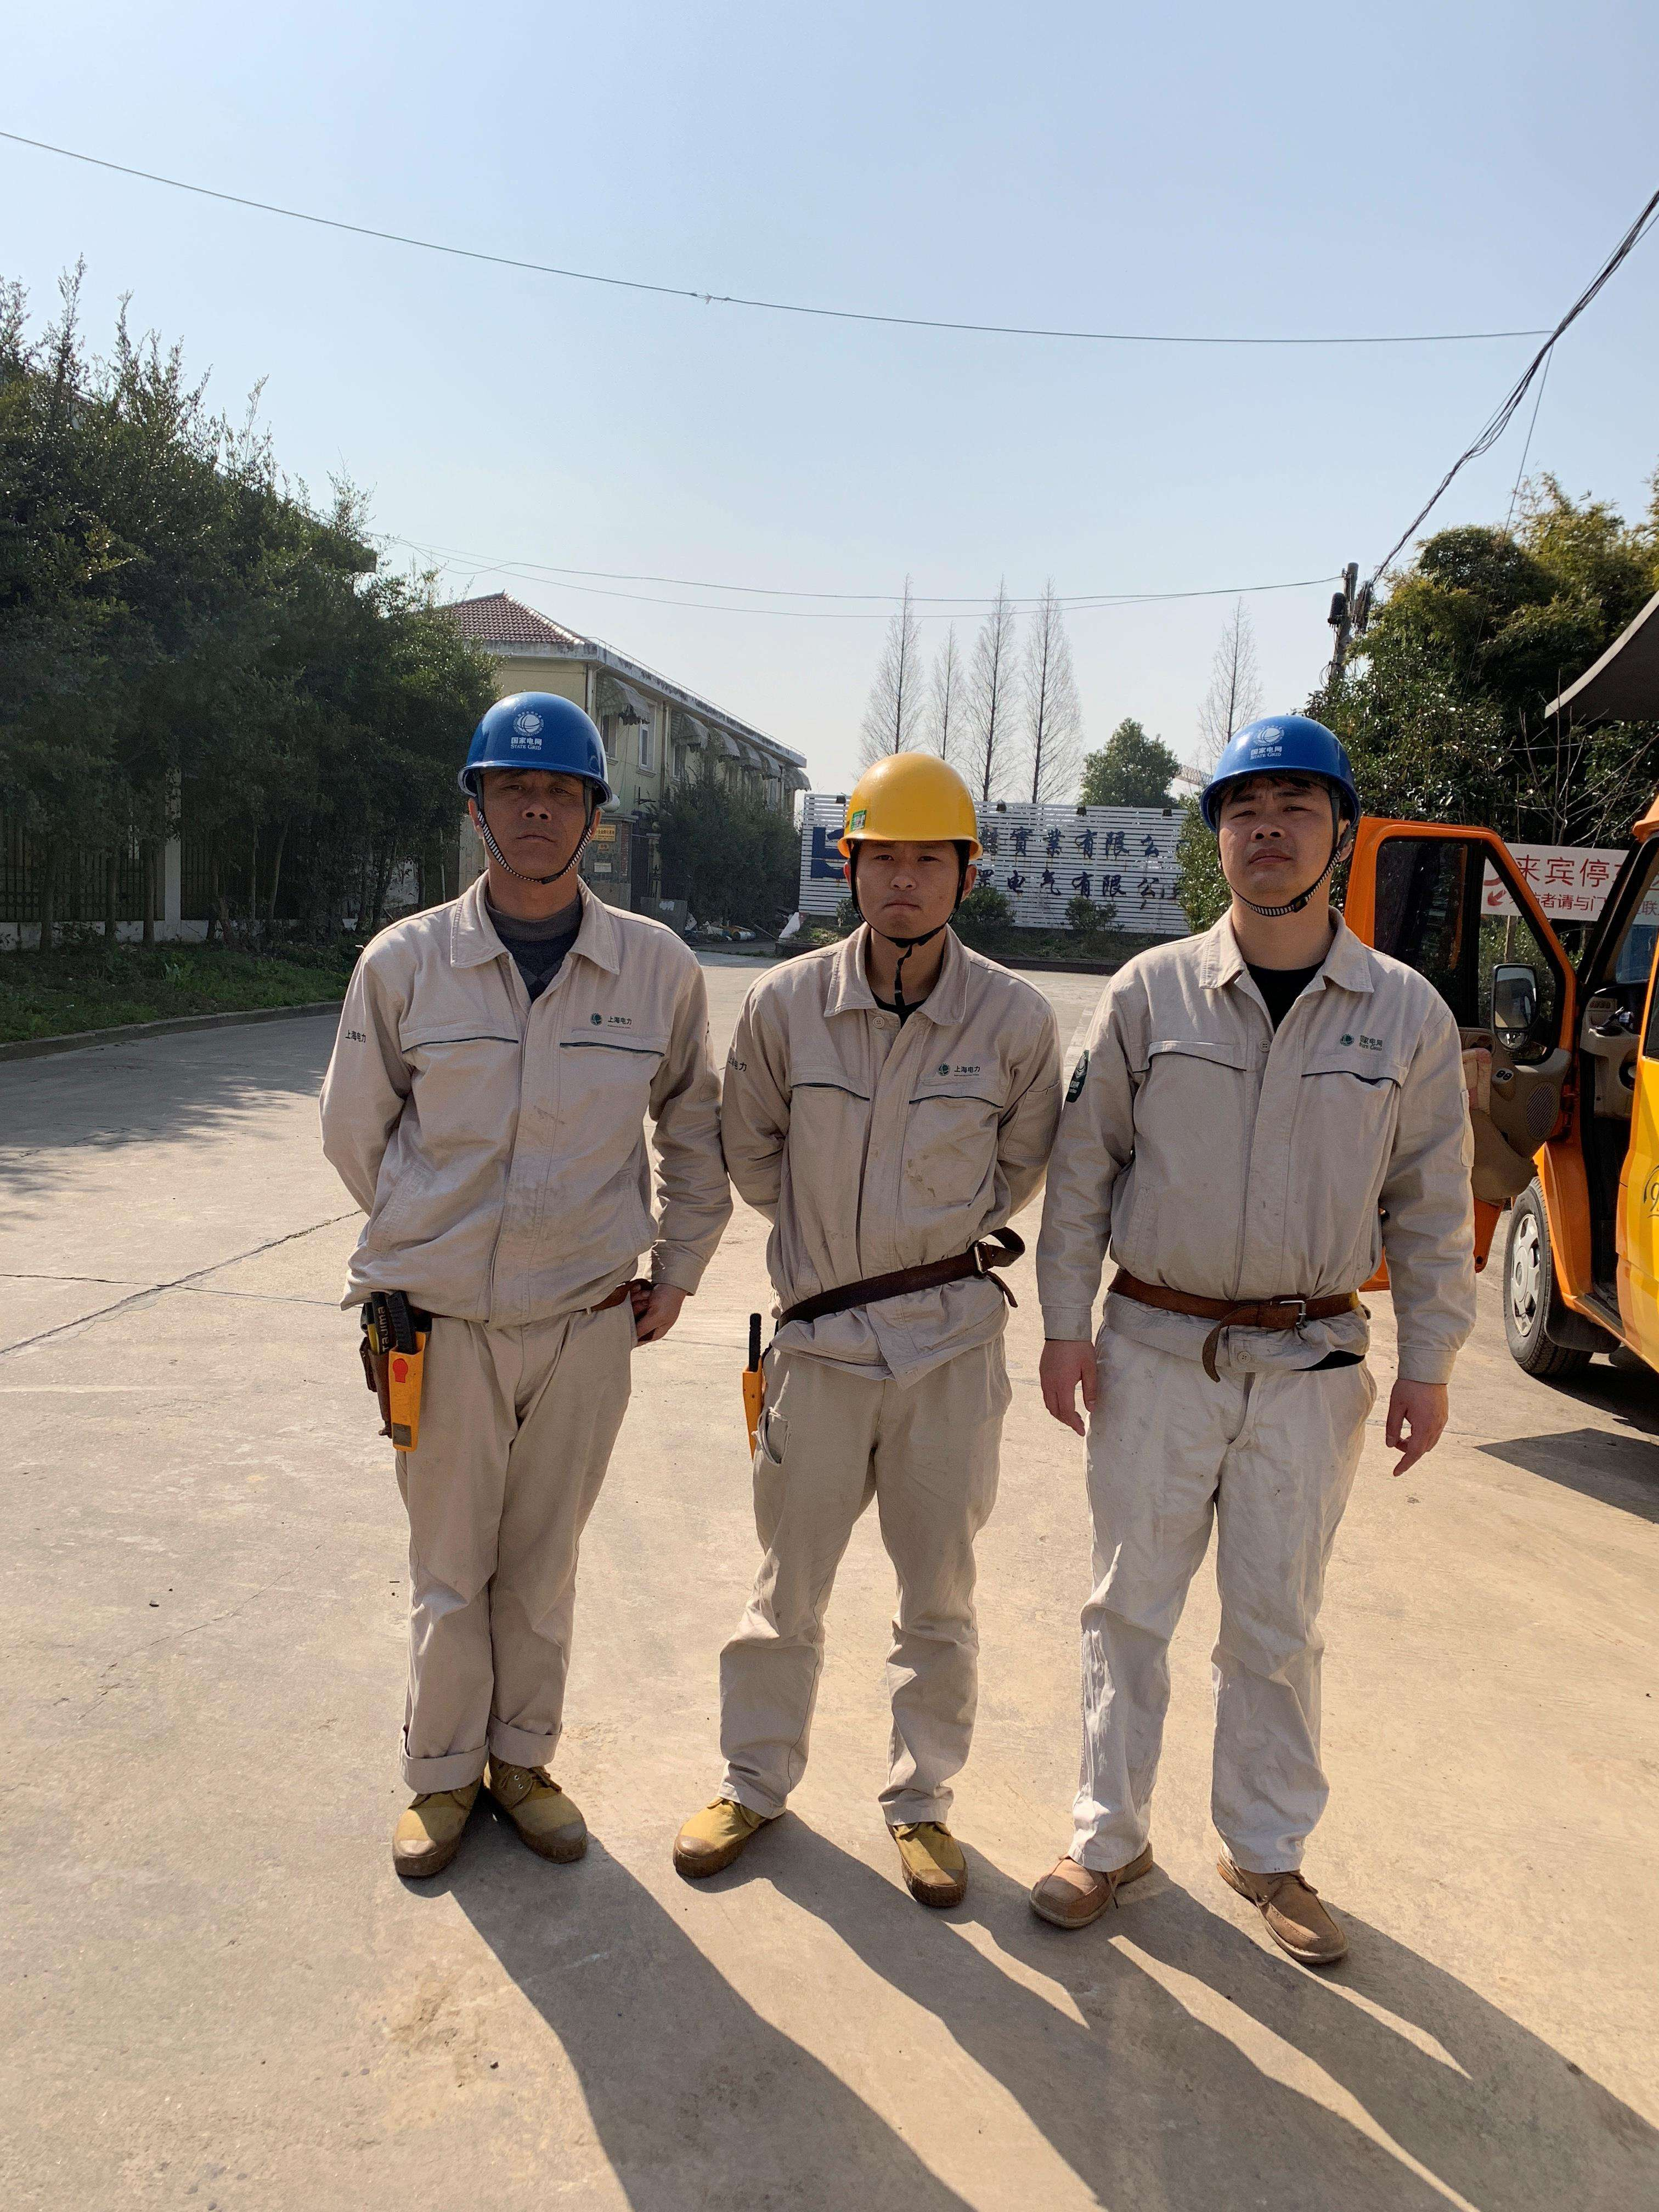helmet: (1193, 718, 1379, 901), (832, 747, 993, 940), (456, 692, 618, 876)
person: (1015, 724, 1486, 1966), (311, 690, 727, 1887), (666, 754, 1070, 1909)
